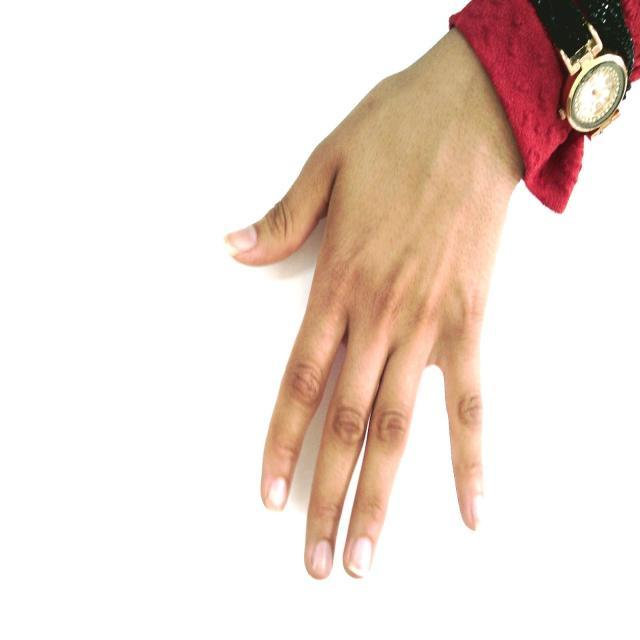Fingernail: (348, 538, 371, 576), (227, 228, 256, 253), (312, 541, 331, 578), (268, 479, 287, 509), (471, 495, 481, 528)
